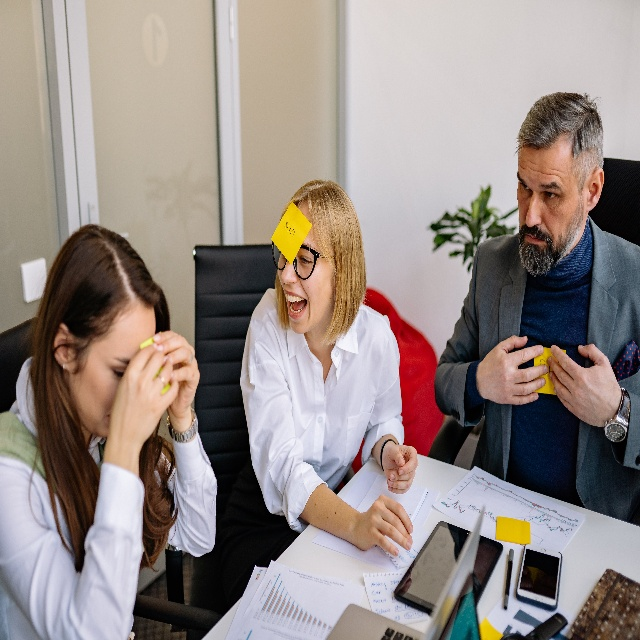Gafas: (270, 240, 318, 282)
Sin_guantes: (104, 344, 180, 463), (545, 340, 619, 432), (476, 335, 546, 413), (152, 329, 202, 421), (363, 491, 413, 559), (383, 439, 421, 491)
